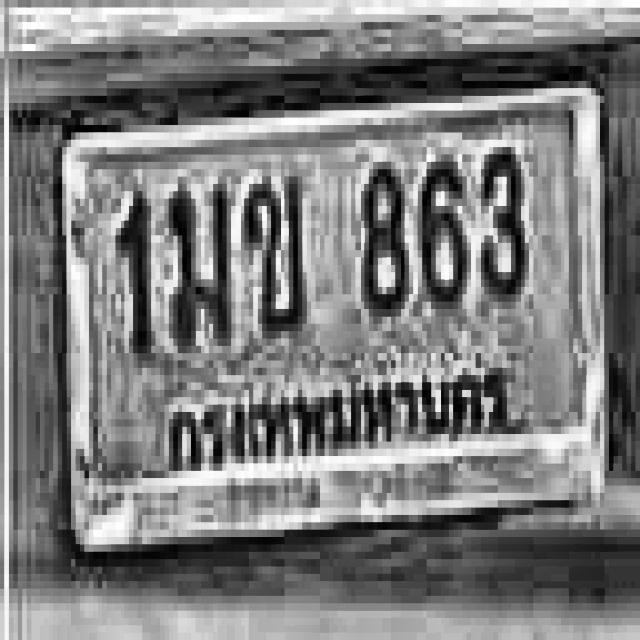license-plate: (54, 71, 616, 561)
